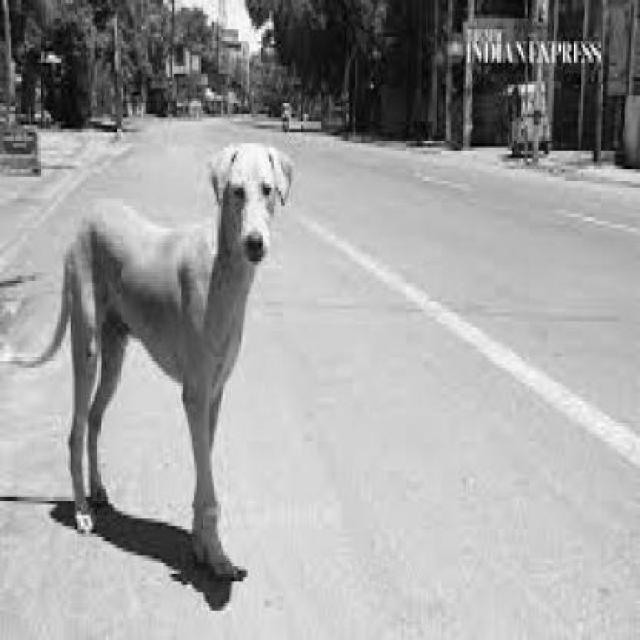Dog: (5, 133, 308, 602)
